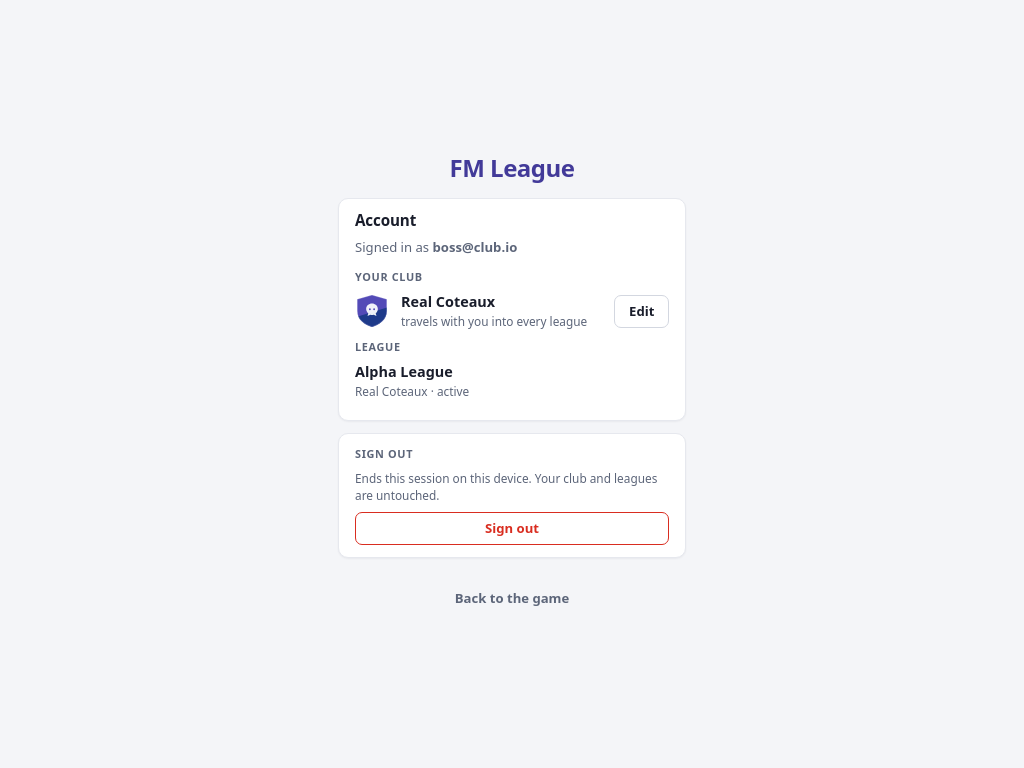
SIGN OUT ends the session and returns to the public side
This screenshot has width=1024, height=768.
Click the button "Sign out" at (512, 529), box [355, 512, 669, 545]
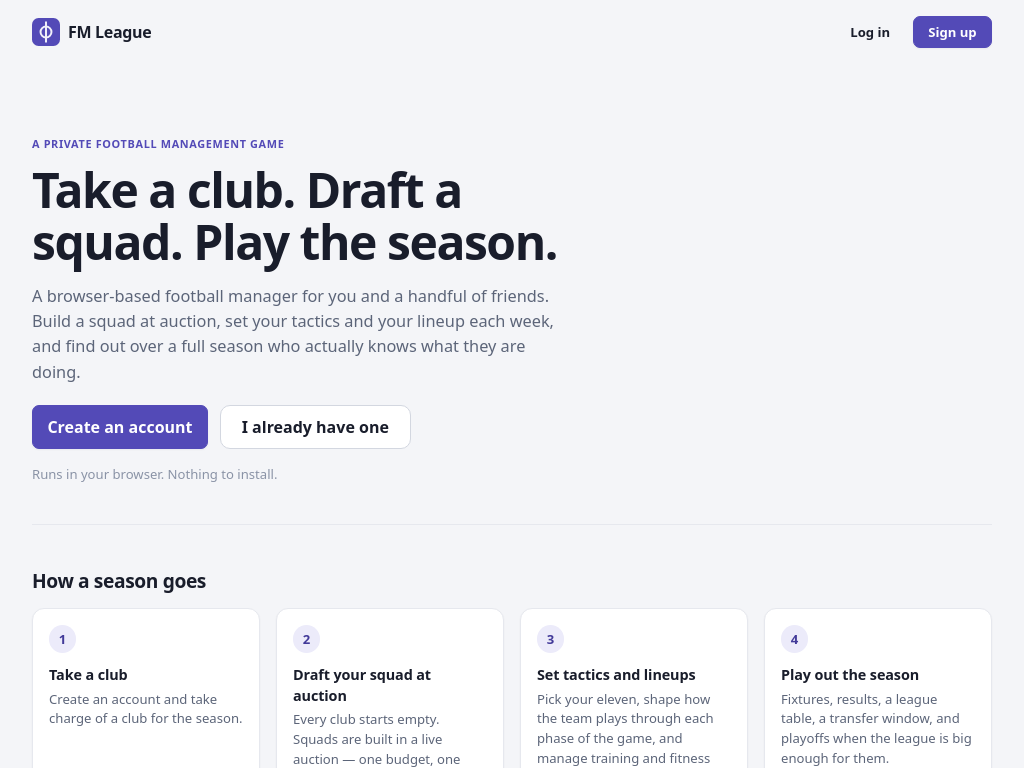
Expected: the heading "How a season goes" is shown, [32, 567, 206, 594]
